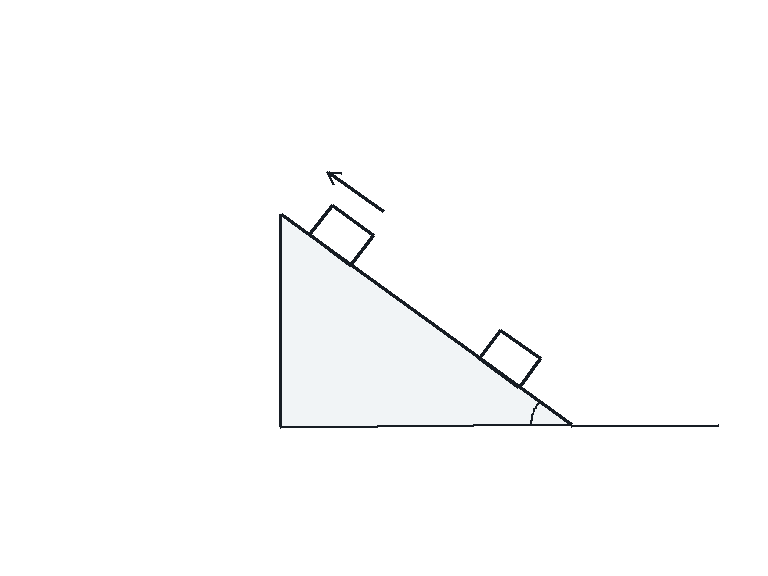block: (307, 203, 375, 267), (477, 327, 541, 389)
ramp: (279, 212, 573, 427)
